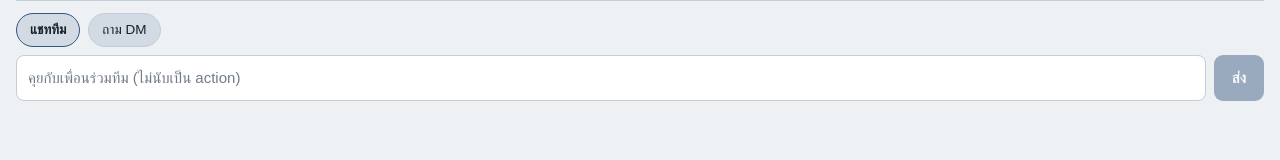
Test: ChatPanel › shows a Thai message for 429 and keeps the text
Click the tab "ถาม DM" at point(124, 30), box [88,13,160,47]
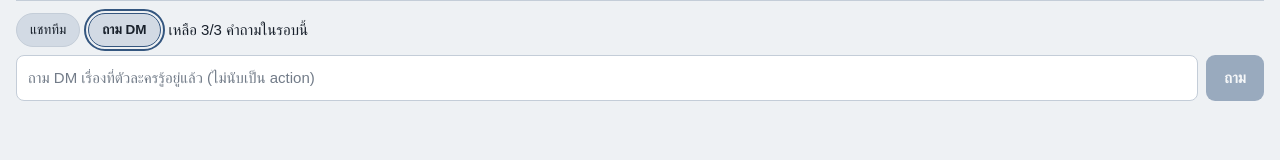
Type "ทำไม" into the field named "คำถามถึง DM" at point(607, 78), box [16,55,1198,101]
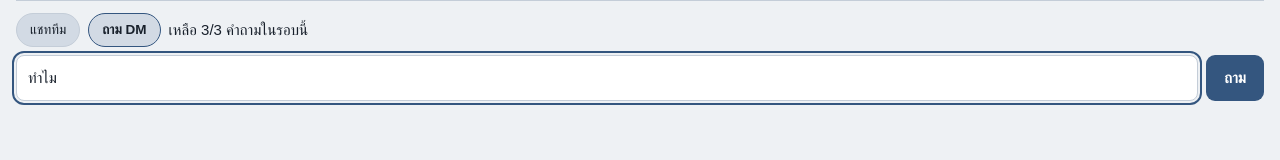
Click the button "ถาม" at point(1235, 78), box [1206,55,1264,101]
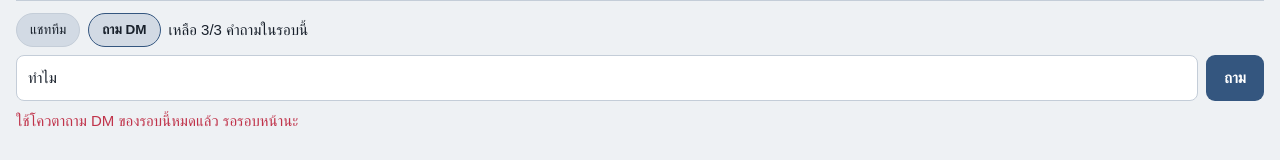
Expected: the message shows "โควตา", [16,112,298,129]
